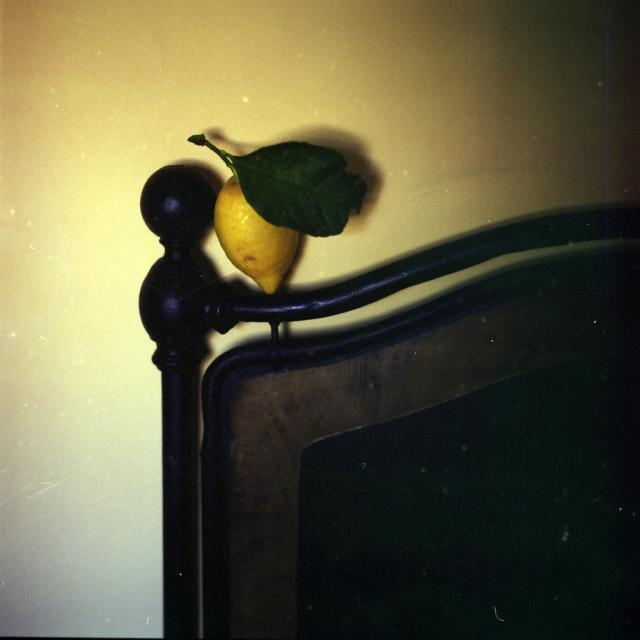Lemon: (212, 173, 305, 297)
